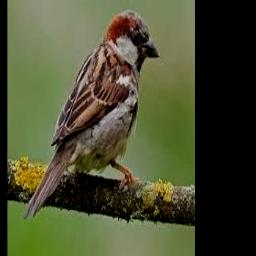Sparrow: (24, 10, 160, 218)
